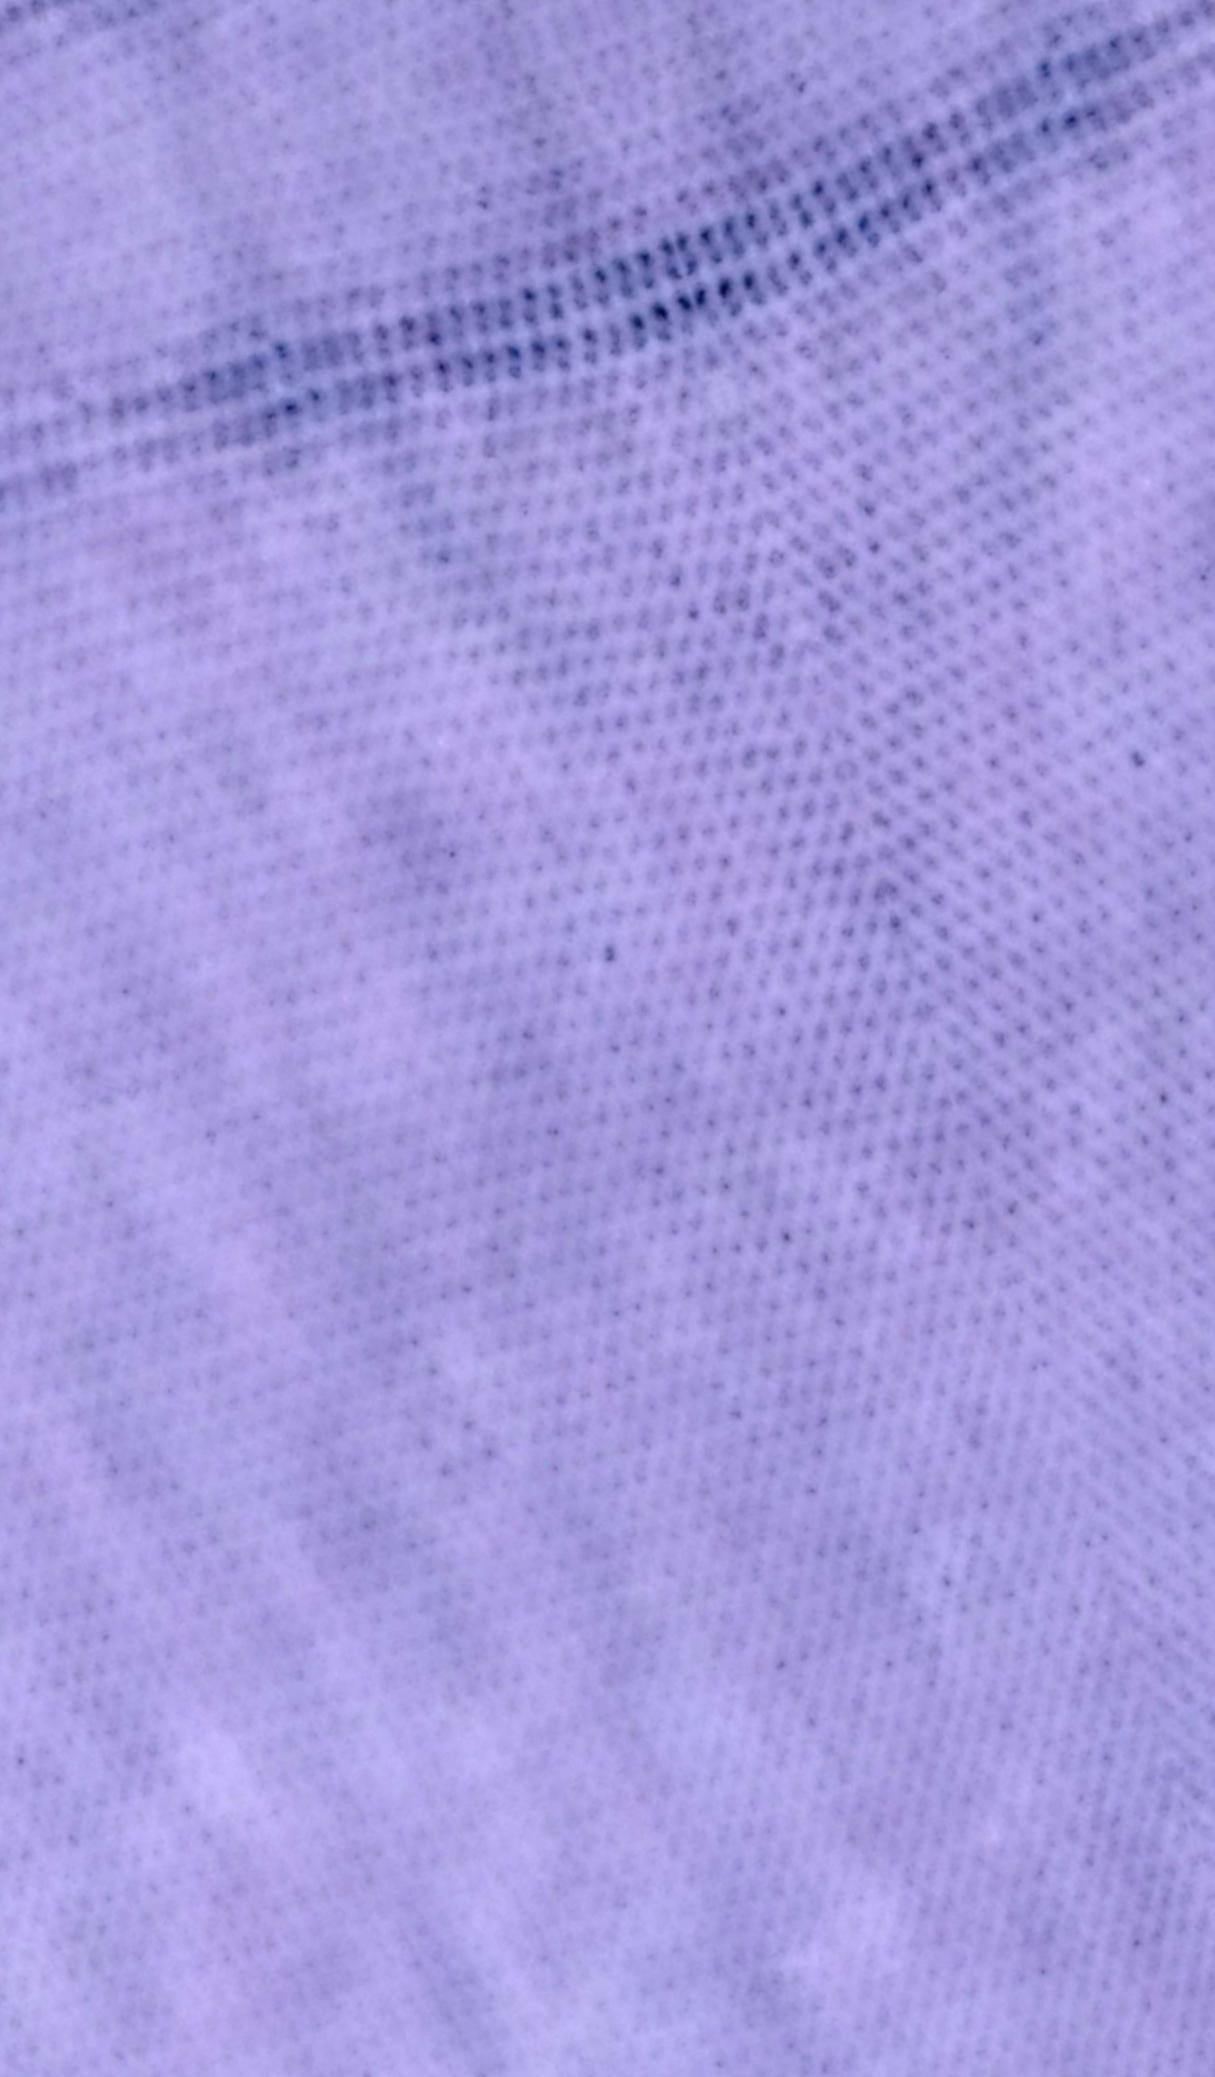slub: (6, 10, 1202, 576)
